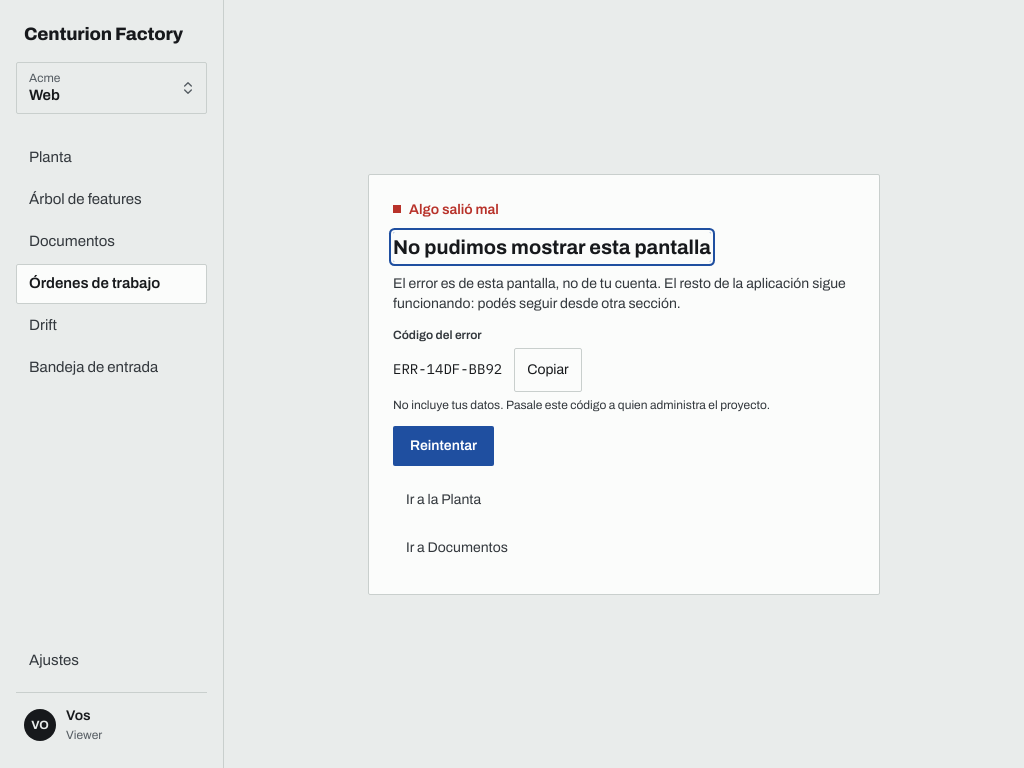
app router › SDD-103 · el error de render se contiene dentro del chrome › (c) "Reintentar" redraws the real screen once the cause is gone
The image size is (1024, 768).
Expected: the heading "No pudimos mostrar esta pantalla" is shown, left=393, top=232, right=711, bottom=262
Click the button "Reintentar". click: click(444, 446)
box: left=393, top=426, right=494, bottom=466
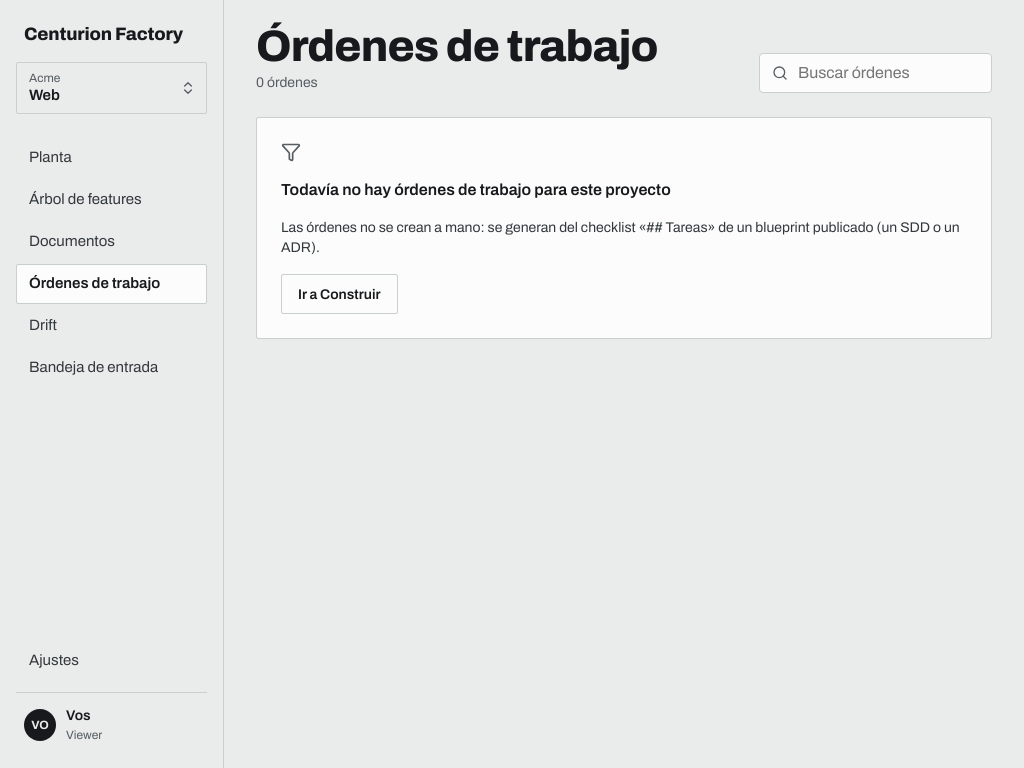
Expected: the heading "Órdenes de trabajo" is shown, left=256, top=24, right=658, bottom=68
Expected: the heading "No pudimos mostrar esta pantalla" is gone
